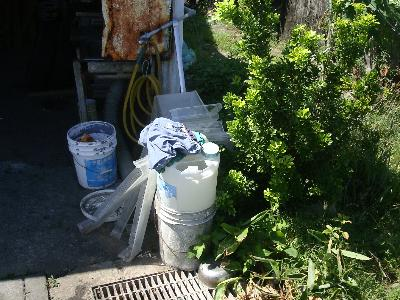bowl: (198, 255, 243, 288)
bucket: (149, 196, 219, 273), (154, 148, 219, 214), (62, 120, 122, 191)
plate: (78, 189, 132, 223)
